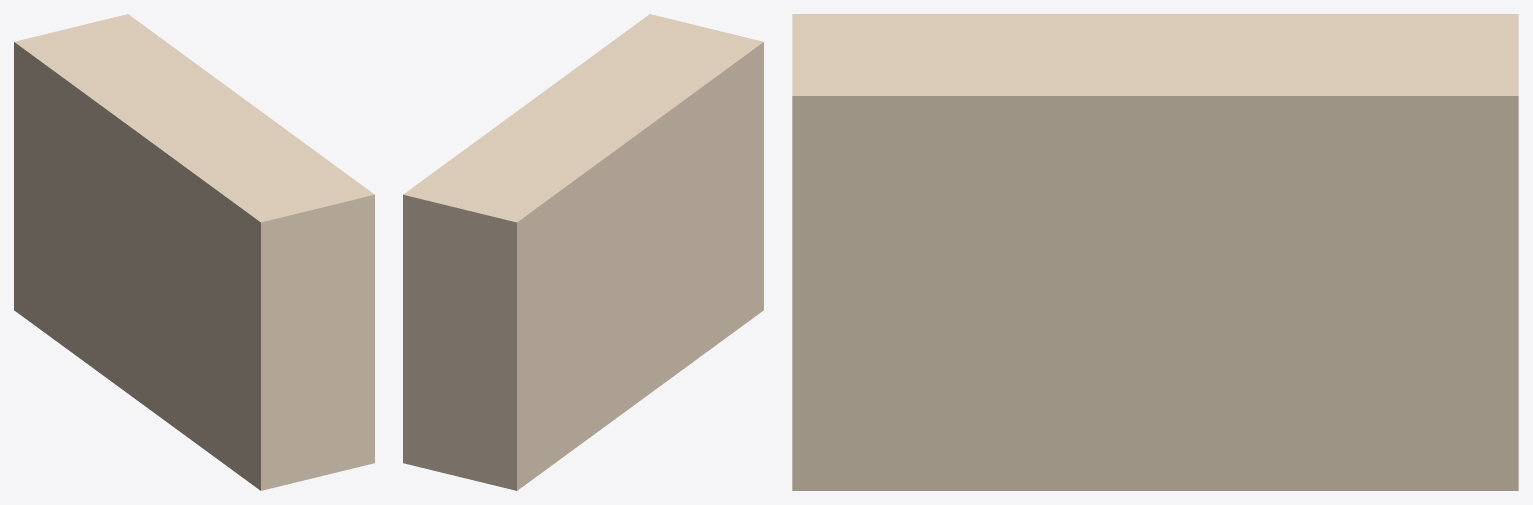
File: arm.gltf
The picture shows the model from 3 angles, left to right: view 1: azimuth 30°, elevation 25°; view 2: azimuth 150°, elevation 25°; view 3: azimuth 270°, elevation 25°; orthographic projection. The views are drawn at different scales.
Parts seen in each view (by area): view 1: Arm; view 2: Arm; view 3: Arm.
Part boxes in pixels (left/top/right/bottom): Arm: left=14, top=14, right=374, bottom=490; Arm: left=403, top=14, right=763, bottom=490; Arm: left=792, top=14, right=1518, bottom=490.
Bounding box in the file's own units: 0.16 × 0.36 × 0.6.
